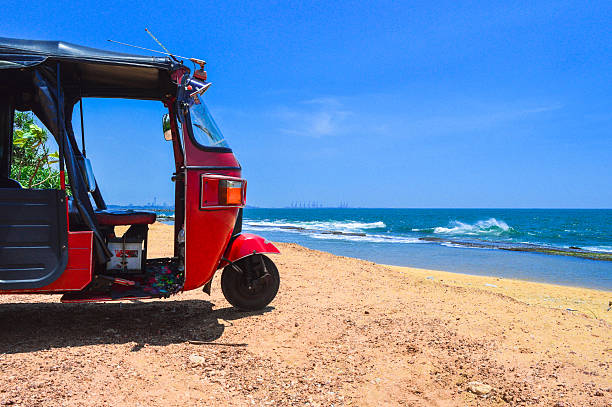threewheel: (1, 35, 281, 312)
